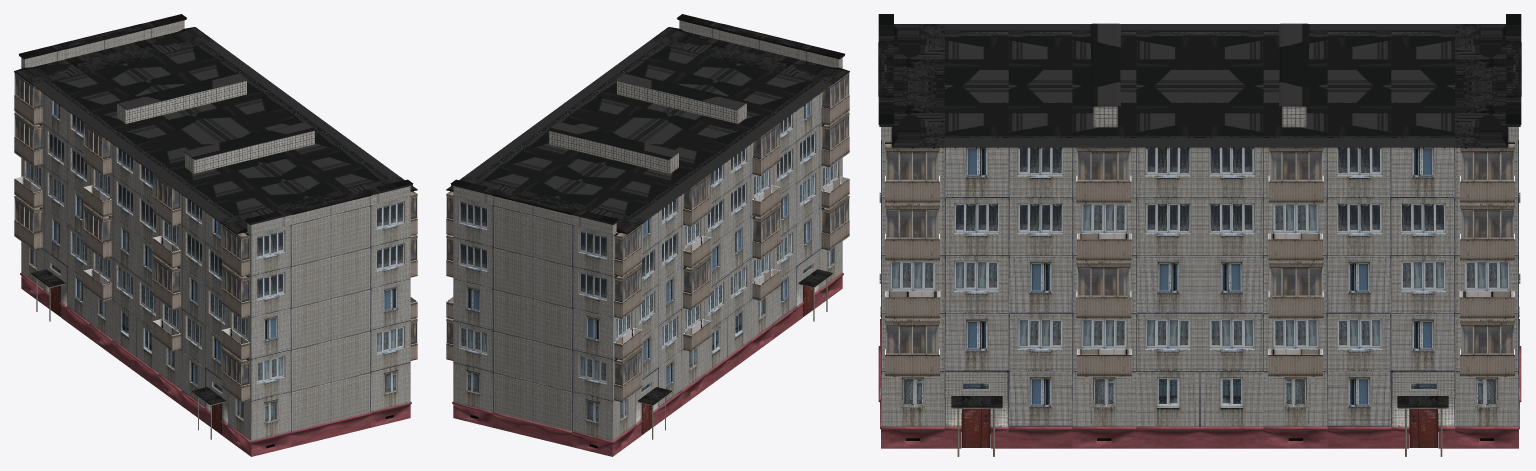
File: DomStorona.fbx
3 views of the same model, side by side, from view 1: azimuth 30°, elevation 25°; view 2: azimuth 150°, elevation 25°; view 3: azimuth 270°, elevation 25° (orthographic). The views are drawn at different scales.
Parts seen in each view (by area): view 1: Window.045; view 2: Window.045; view 3: Window.045.
Boxes of the visible parts, bbox=[...] form: Window.045: bbox=[14, 14, 417, 456]; Window.045: bbox=[446, 14, 849, 456]; Window.045: bbox=[878, 14, 1521, 456].
Bounding box in the file's own units: 1434 × 1712 × 3026.
8 materials, 7 textured.
